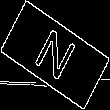N_SW: (29, 23, 81, 87)
